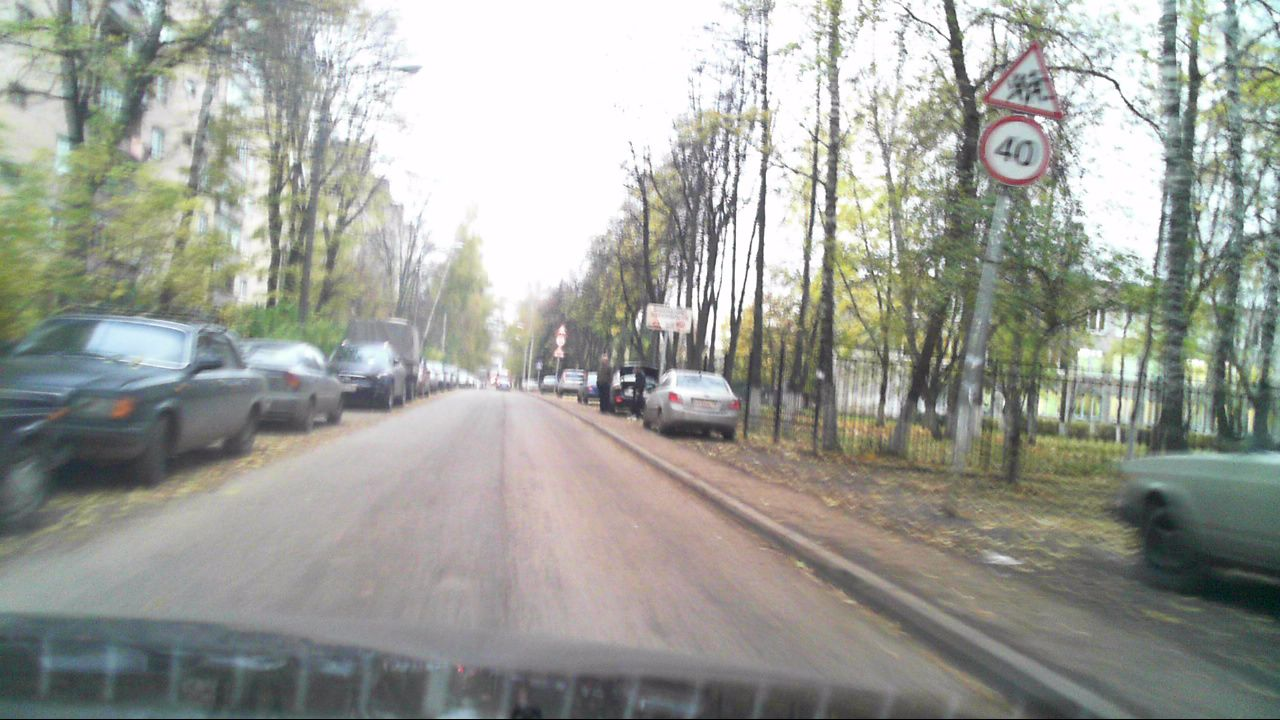speed_warning_40: (979, 116, 1048, 185)
